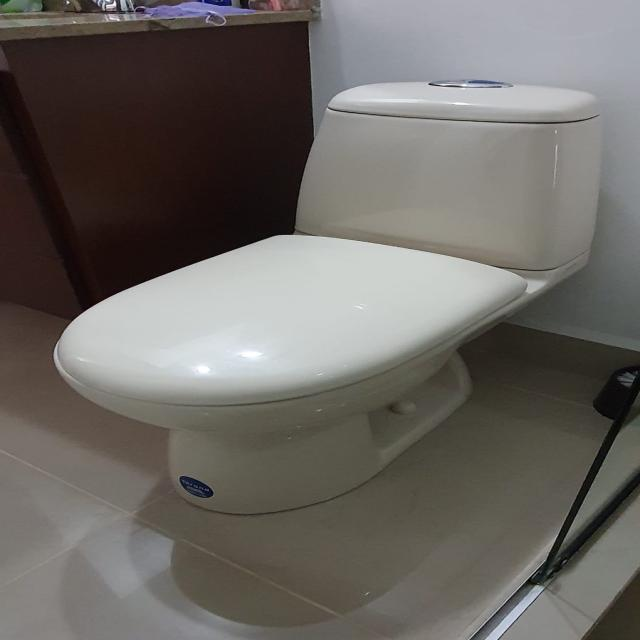toilet: (52, 79, 603, 515)
